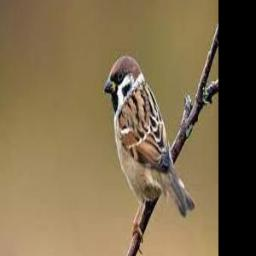Sparrow: (104, 56, 195, 247)
